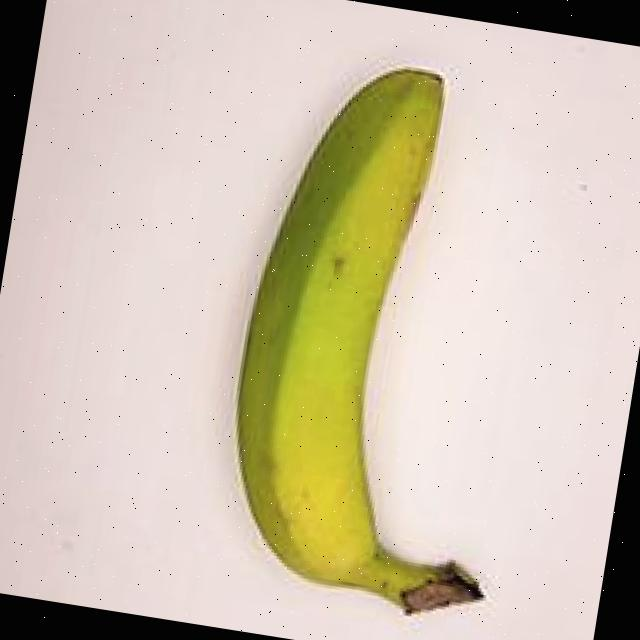Unripe: (165, 13, 634, 640)
